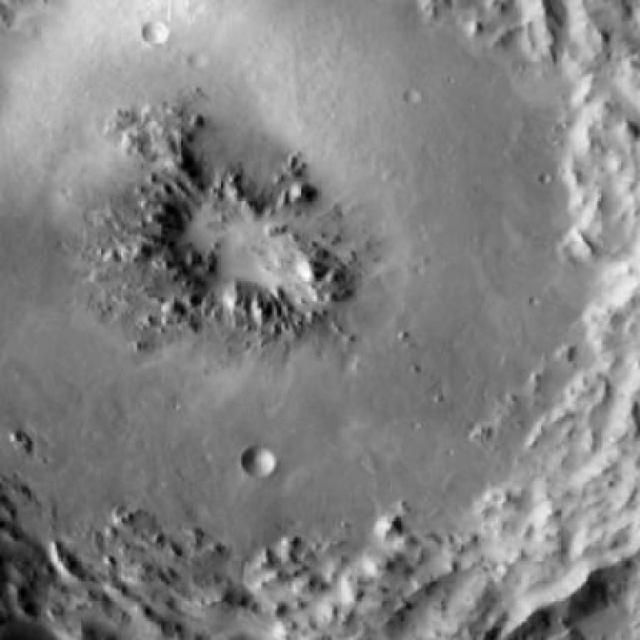crater: (0, 0, 640, 640), (239, 447, 275, 479), (142, 20, 166, 42)
